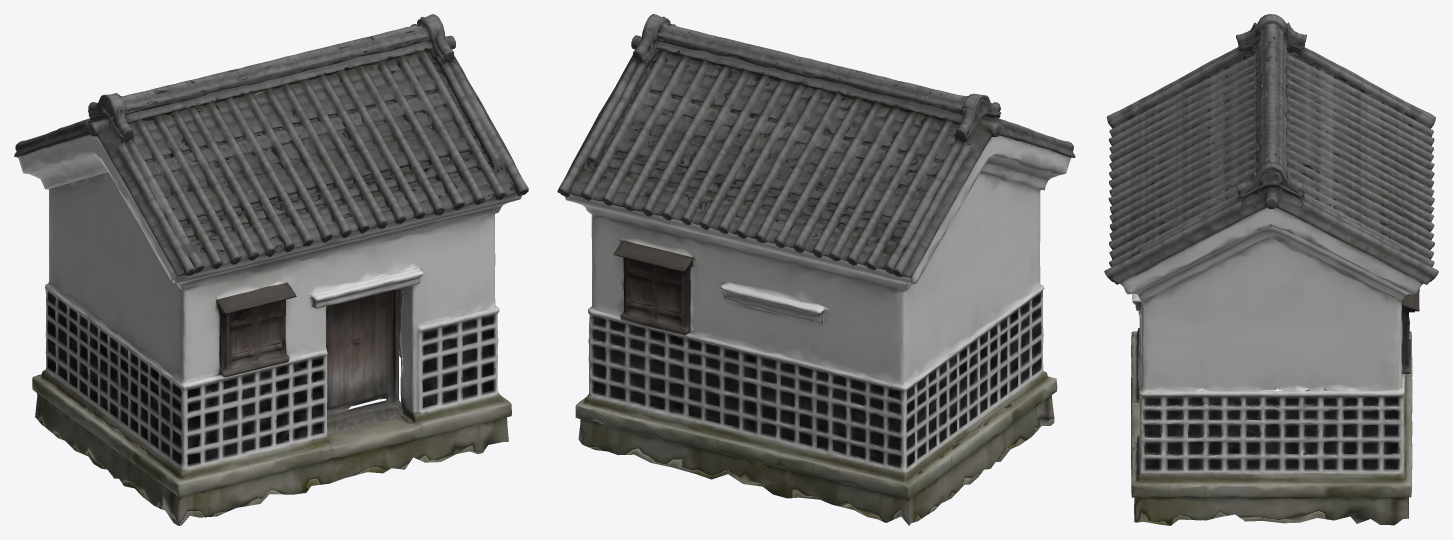
Rendered from kura.0.glb.
3 renders of one model, left to right at view 1: azimuth 30°, elevation 25°; view 2: azimuth 150°, elevation 25°; view 3: azimuth 270°, elevation 25°, orthographic. The views are drawn at different scales.
Visible parts, largest first — view 1: geometry_0; view 2: geometry_0; view 3: geometry_0.
Boxes of the visible parts, <box> form: geometry_0: <box>14,14,528,525</box>; geometry_0: <box>557,14,1075,525</box>; geometry_0: <box>1104,14,1438,525</box>.
Bounding box in the file's own units: 0.9979 × 0.9957 × 0.8394.
1 material, 1 textured.
